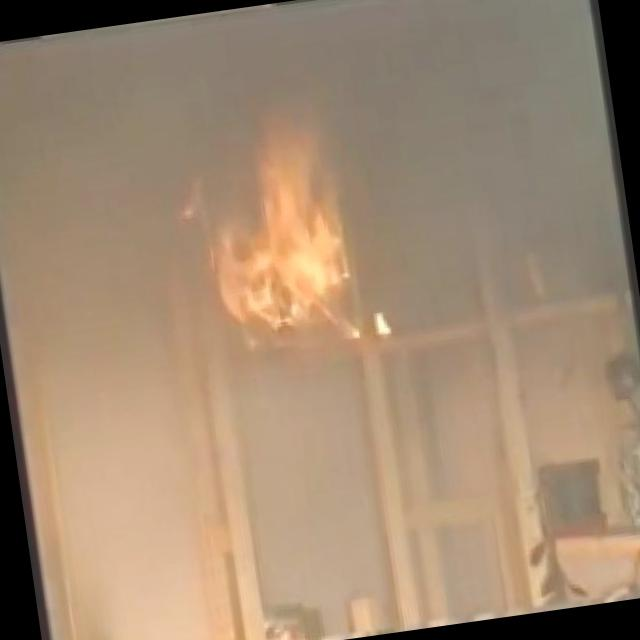fire: (174, 114, 392, 360)
